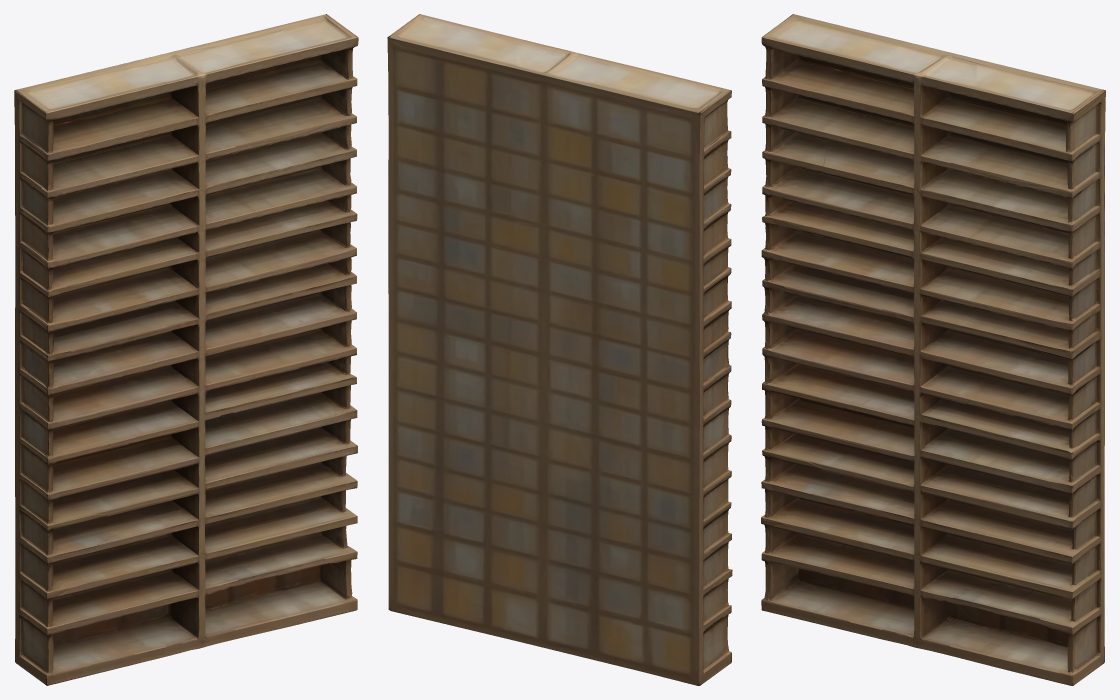
File: screen_slatted_wood_3.glb
The picture shows the model from 3 angles, left to right: view 1: azimuth 30°, elevation 25°; view 2: azimuth 150°, elevation 25°; view 3: azimuth 330°, elevation 25°; orthographic projection.
Visible parts, largest first — view 1: geometry_0; view 2: geometry_0; view 3: geometry_0.
Boxes of the visible parts, left/top/right/bottom form: geometry_0: left=14, top=14, right=358, bottom=685; geometry_0: left=387, top=14, right=732, bottom=685; geometry_0: left=761, top=14, right=1105, bottom=685.
Bounding box in the file's own units: 0.5717 × 1 × 0.1039.
1 material, 1 textured.
